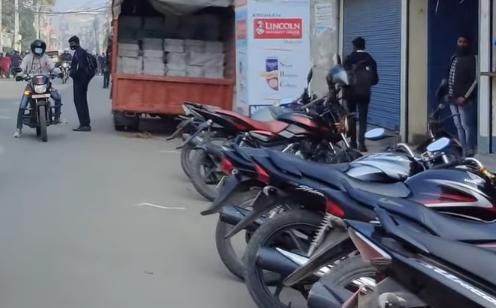bike: (194, 93, 368, 188), (341, 202, 496, 308), (15, 59, 67, 140)
